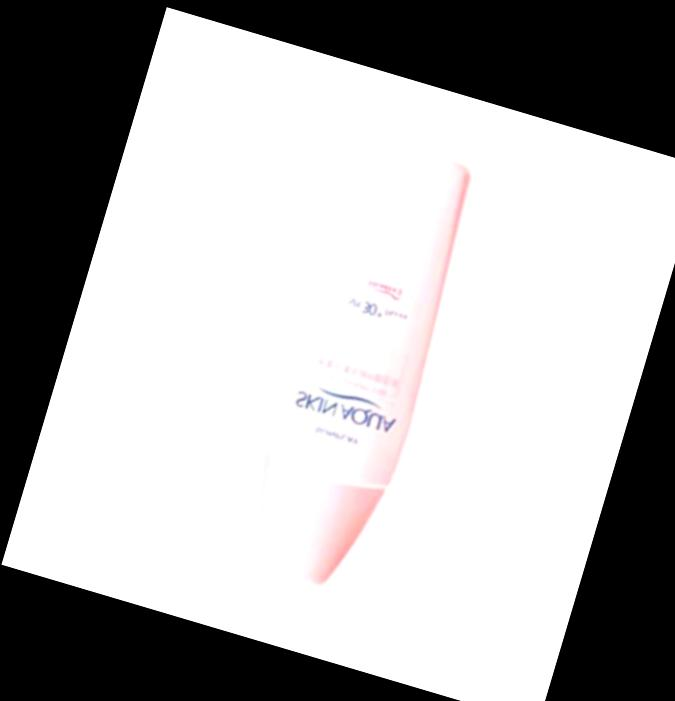cosmetic: (232, 128, 485, 601)
